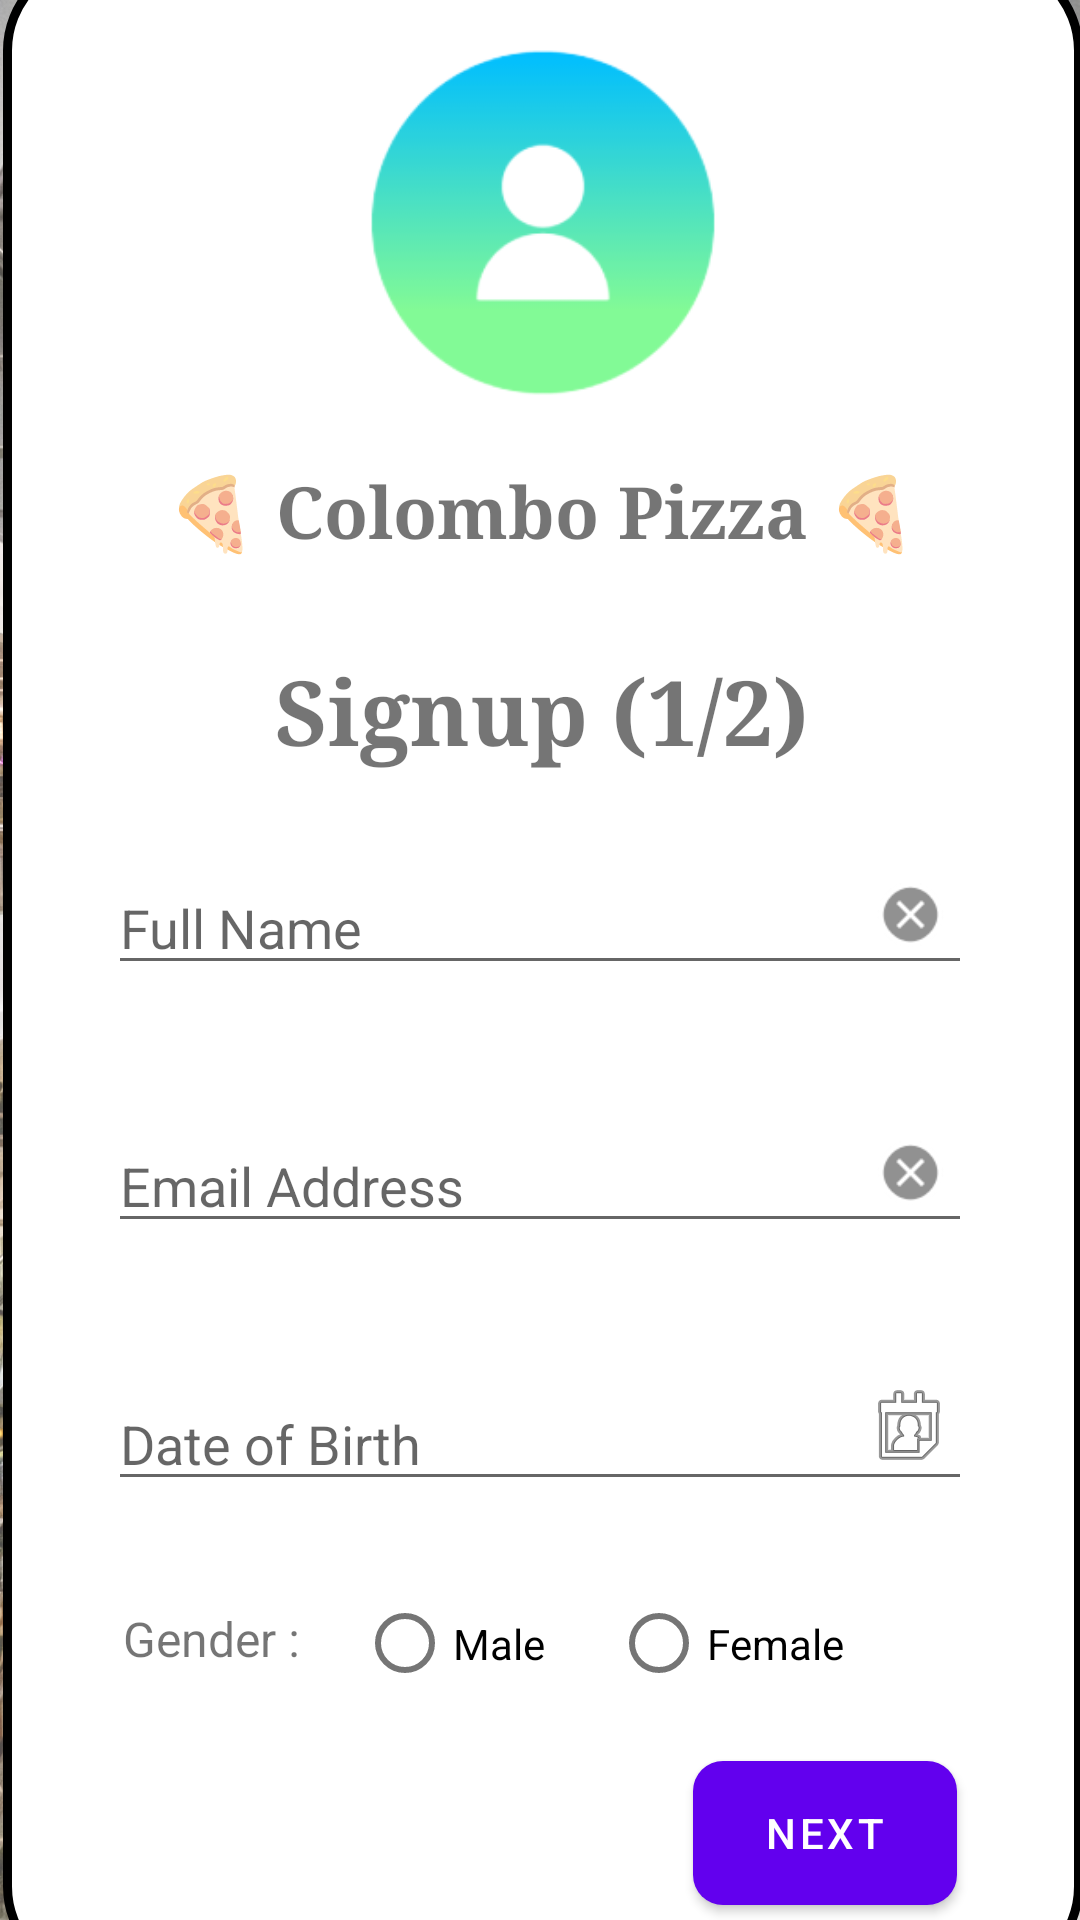

Point at icon controls on the screen. Image size 1080px x 1920px, points as (x=x, y=y).
calendar: (x=909, y=1425)
presence offline: (x=910, y=914), (x=910, y=1172)
usericon: (x=543, y=222)
